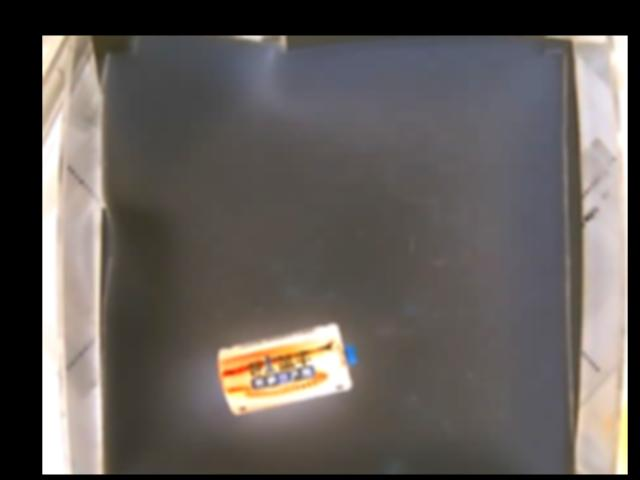Battery: (216, 322, 361, 415)
